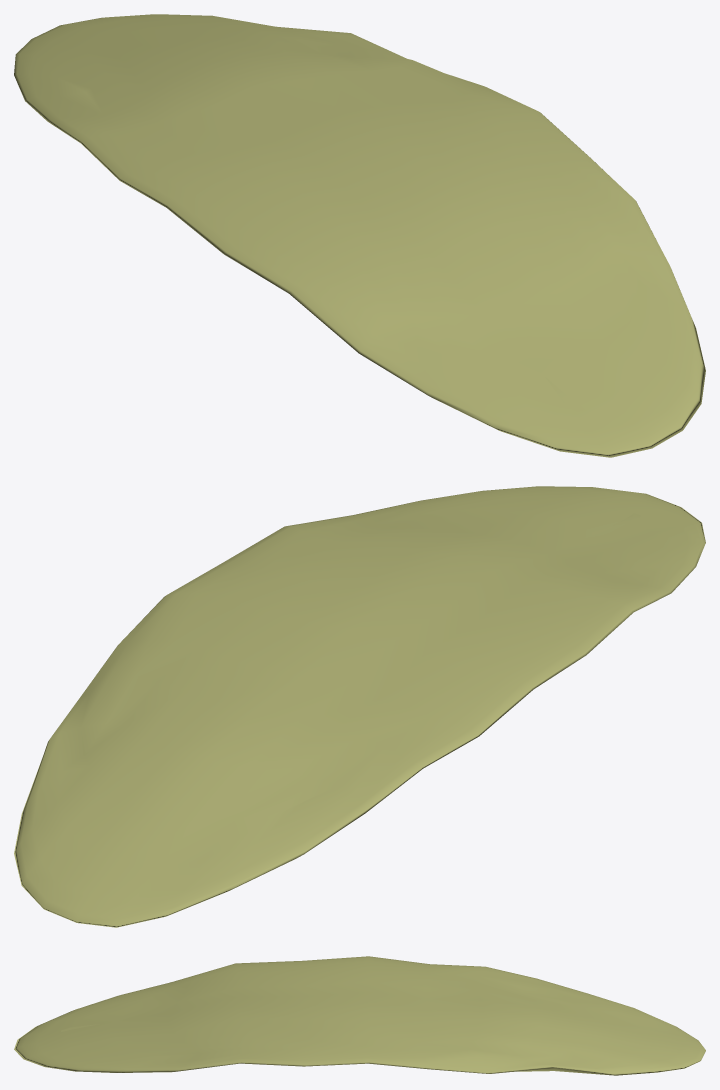
The model's file is lavash rafatayi vra.fbx.
The picture shows the model from 3 angles, top to bottom: view 1: azimuth 30°, elevation 25°; view 2: azimuth 150°, elevation 25°; view 3: azimuth 270°, elevation 25°; orthographic projection. The views are drawn at different scales.
Parts seen in each view (by area): view 1: lavash_rafata; view 2: lavash_rafata; view 3: lavash_rafata.
Part boxes in pixels (x1,y1,x2,y2): lavash_rafata: (14,14,705,457); lavash_rafata: (14,486,705,927); lavash_rafata: (14,956,705,1075).
Bounding box in the file's own units: 3.57 × 0.7949 × 9.67.
